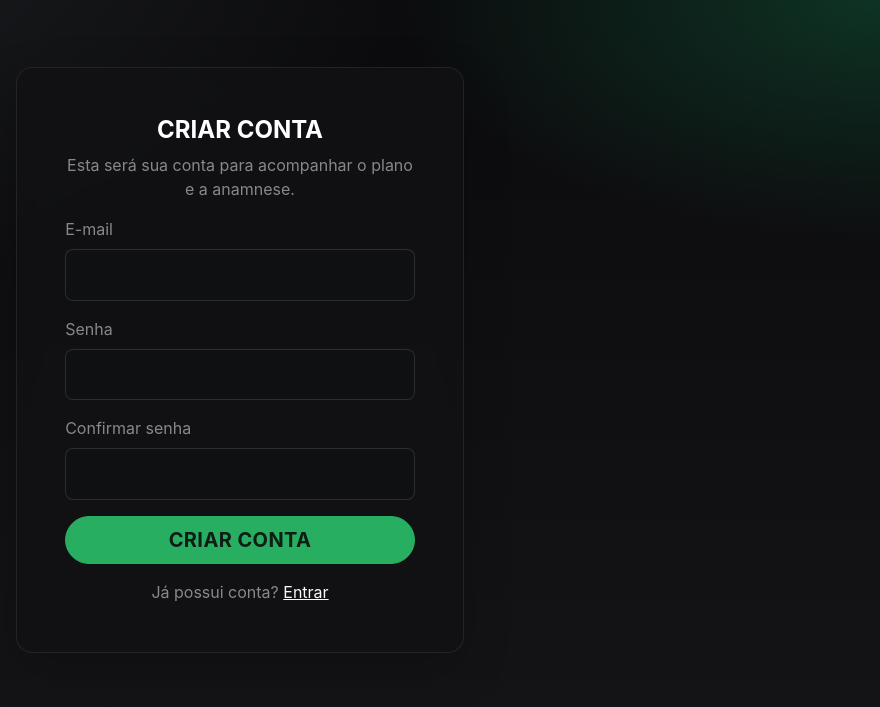
it: Register › shows registration API errors
The width and height of the screenshot is (880, 707).
Type "user@example.com" into the field labelled "E-mail" at (240, 275), box [65,249,415,301]
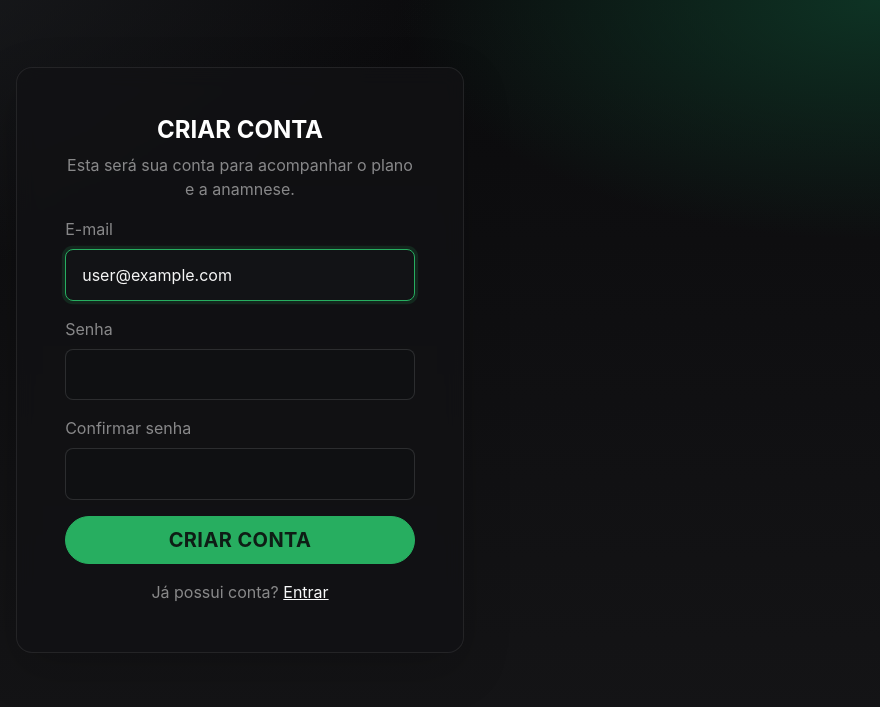
Type "secret123" into the password field labelled "Senha" at (240, 374), box [65,349,415,400]
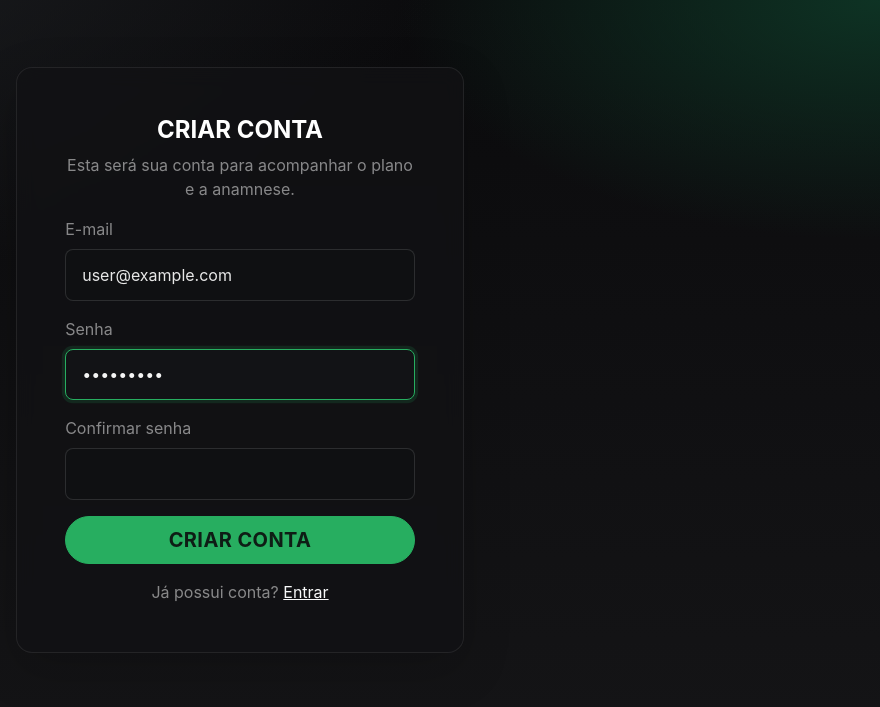
Type "secret123" into the password field labelled "Confirmar senha" at (240, 474), box [65,448,415,500]
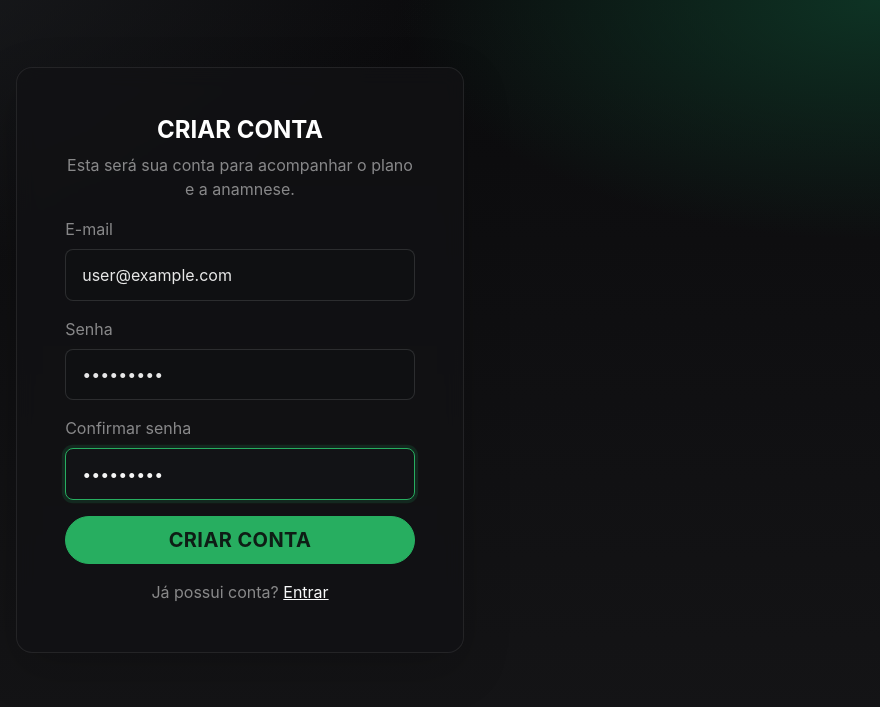
Click the button "Criar conta" at (240, 540), box [65,516,415,564]
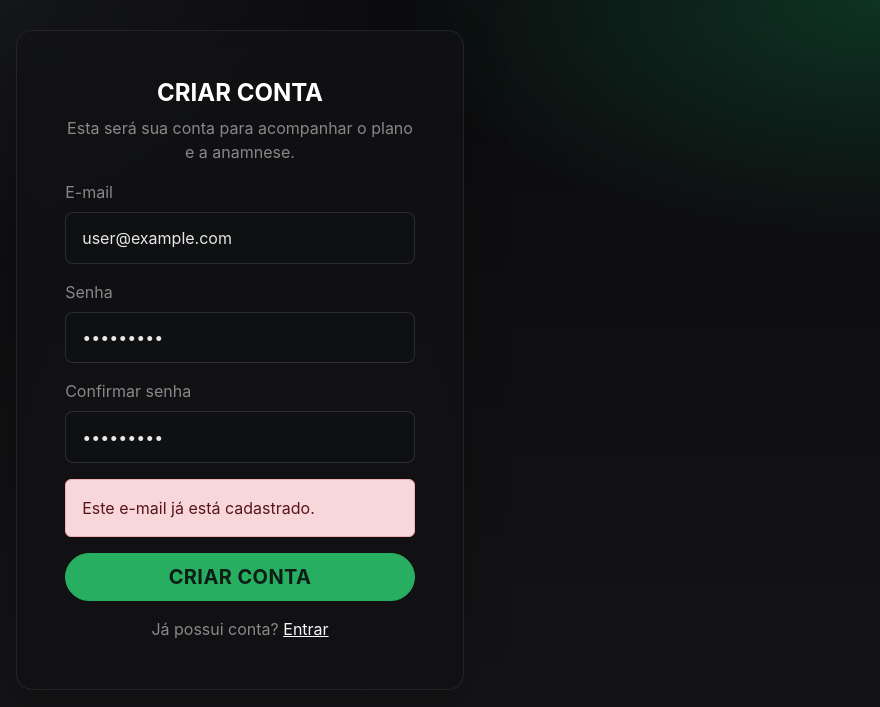
Expected: the text "Este e-mail já está cadastrado." is shown, [65,479,415,537]
